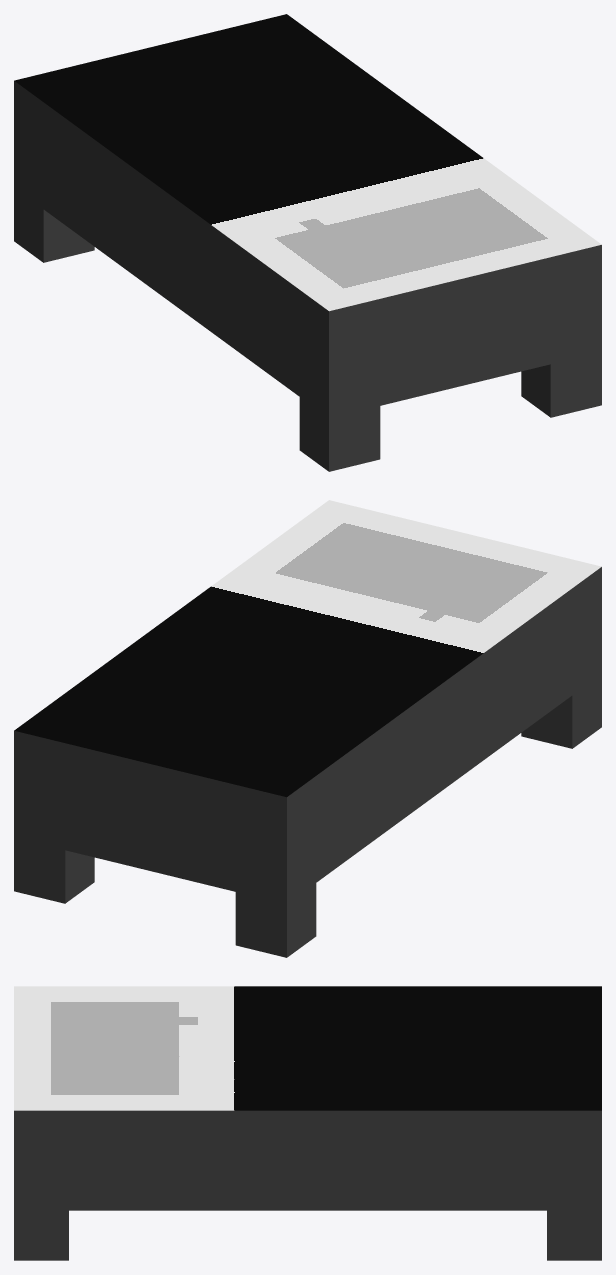
The model's file is bed.obj.
The picture shows the model from 3 angles, top to bottom: view 1: azimuth 30°, elevation 25°; view 2: azimuth 150°, elevation 25°; view 3: azimuth 270°, elevation 25°; orthographic projection. The views are drawn at different scales.
Visible parts, largest first — view 1: bed, leg3, leg1, leg2; view 2: bed, leg2, leg0, leg3; view 3: bed, leg0, leg1.
Part boxes in pixels (left/top/right/bottom): bed: left=14, top=14, right=601, bottom=418; leg3: left=299, top=397, right=380, bottom=471; leg1: left=521, top=352, right=601, bottom=417; leg2: left=14, top=188, right=94, bottom=262; bed: left=14, top=500, right=601, bottom=904; leg2: left=235, top=883, right=316, bottom=957; leg0: left=14, top=838, right=94, bottom=903; leg3: left=521, top=674, right=601, bottom=748; bed: left=14, top=986, right=601, bottom=1210; leg0: left=547, top=1210, right=601, bottom=1260; leg1: left=14, top=1210, right=68, bottom=1260.
Bounding box in the file's own units: 1 × 0.5625 × 2.
Materials: 1 (1 with a texture image).
